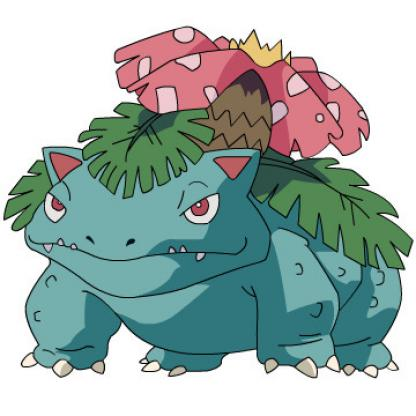Venusaur: (1, 24, 416, 385)
